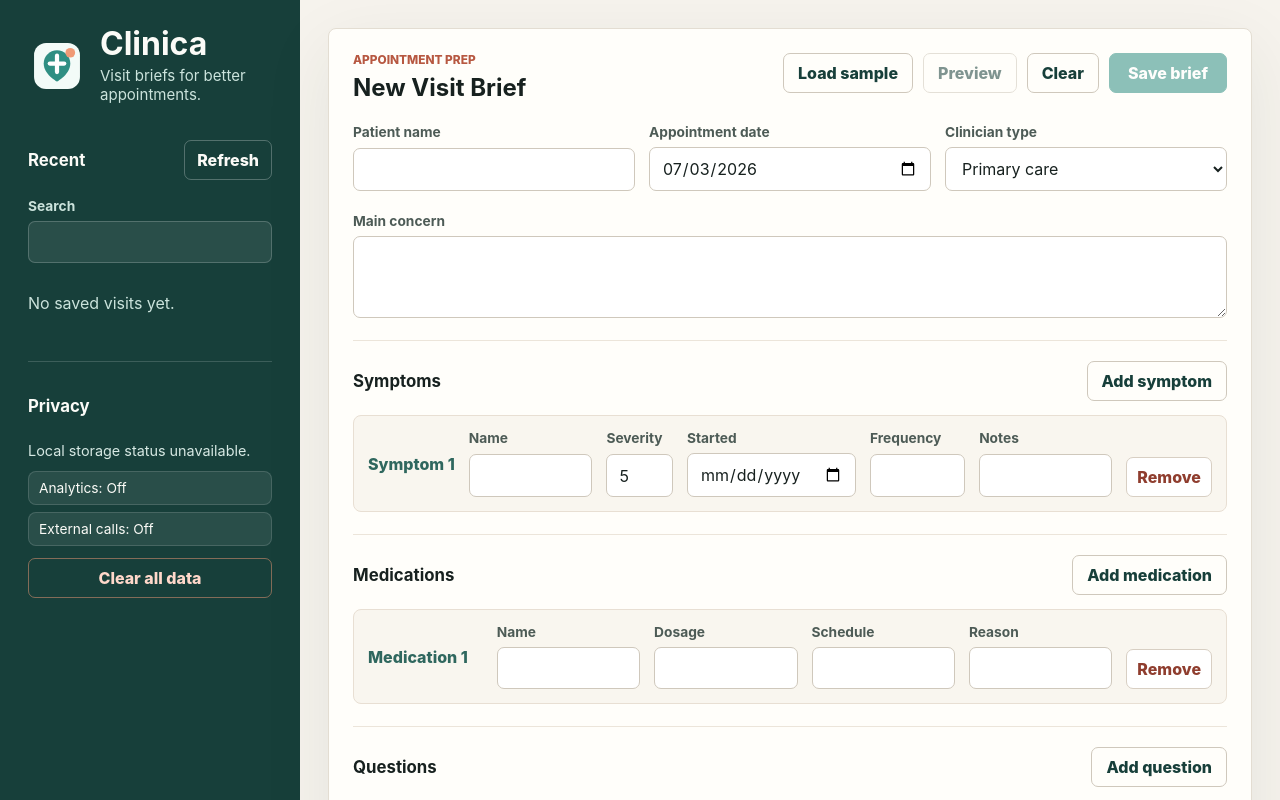
Test: Clinica app › saves a sample visit and displays the generated brief
Click the button "Load sample".
click(848, 73)  # box [783, 53, 913, 93]
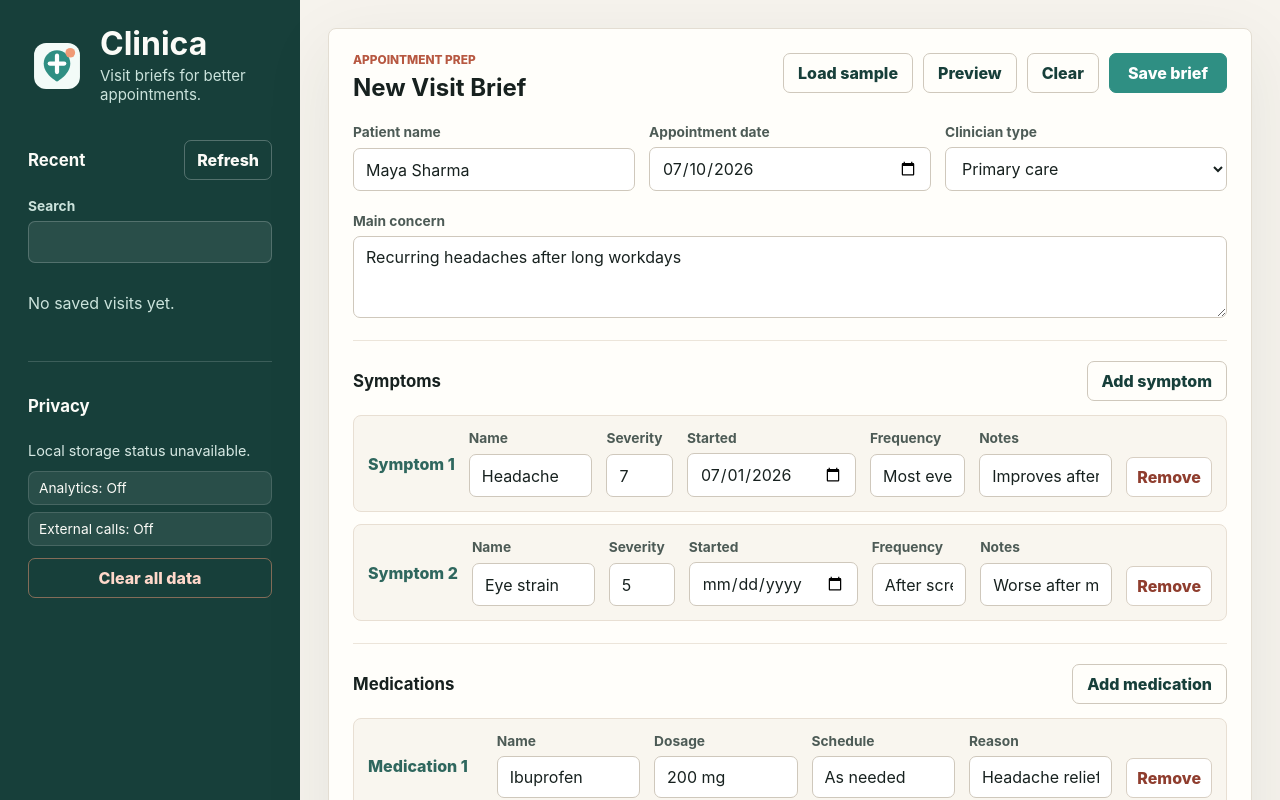
Click the button "Save brief".
click(1168, 73)  # box [1109, 53, 1227, 93]
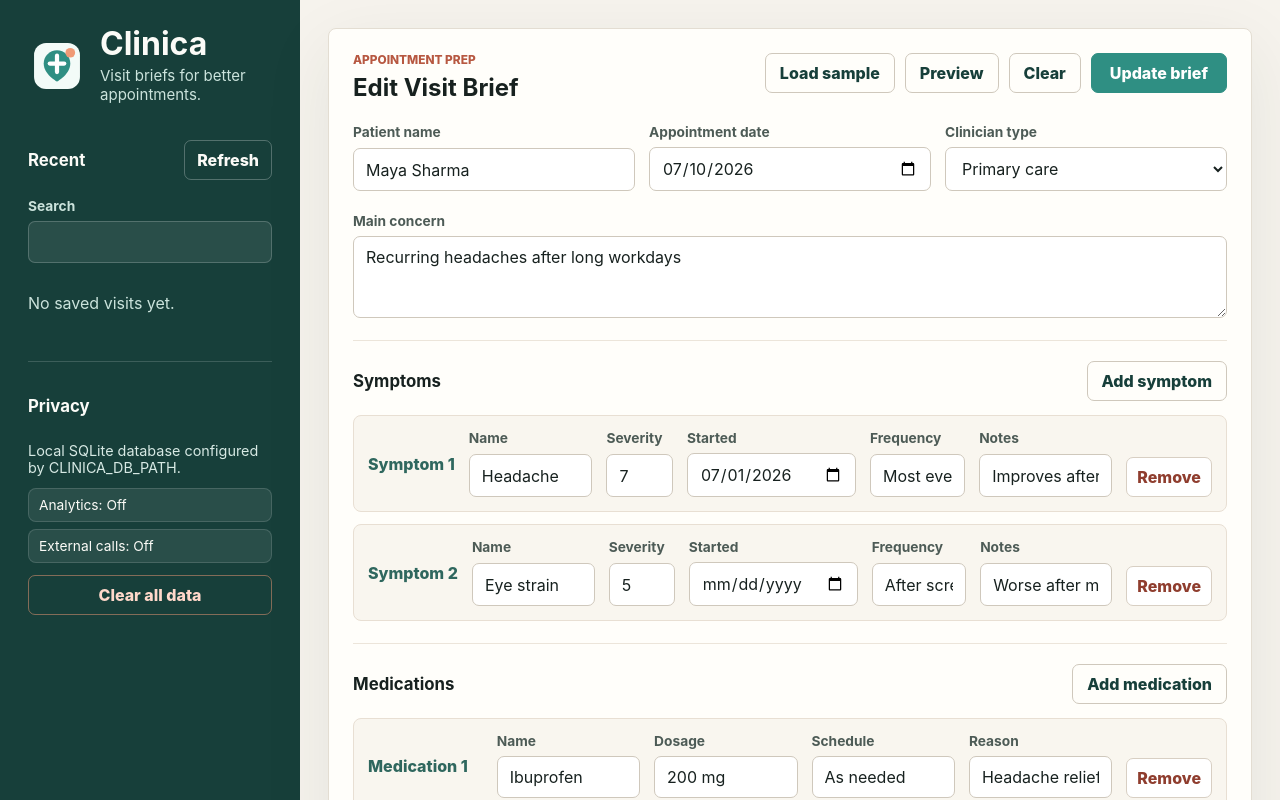
expect the button "Update brief" is shown: met, box [1091, 53, 1227, 93]
